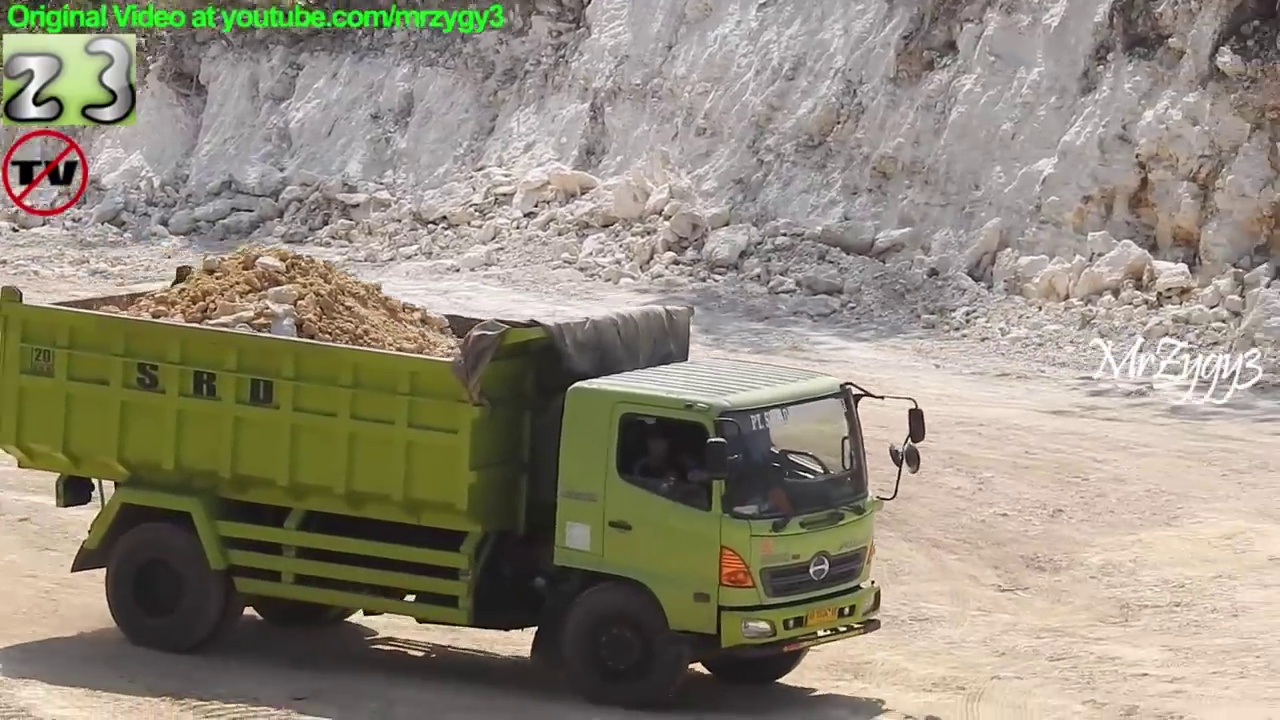truck: (1, 284, 929, 710)
